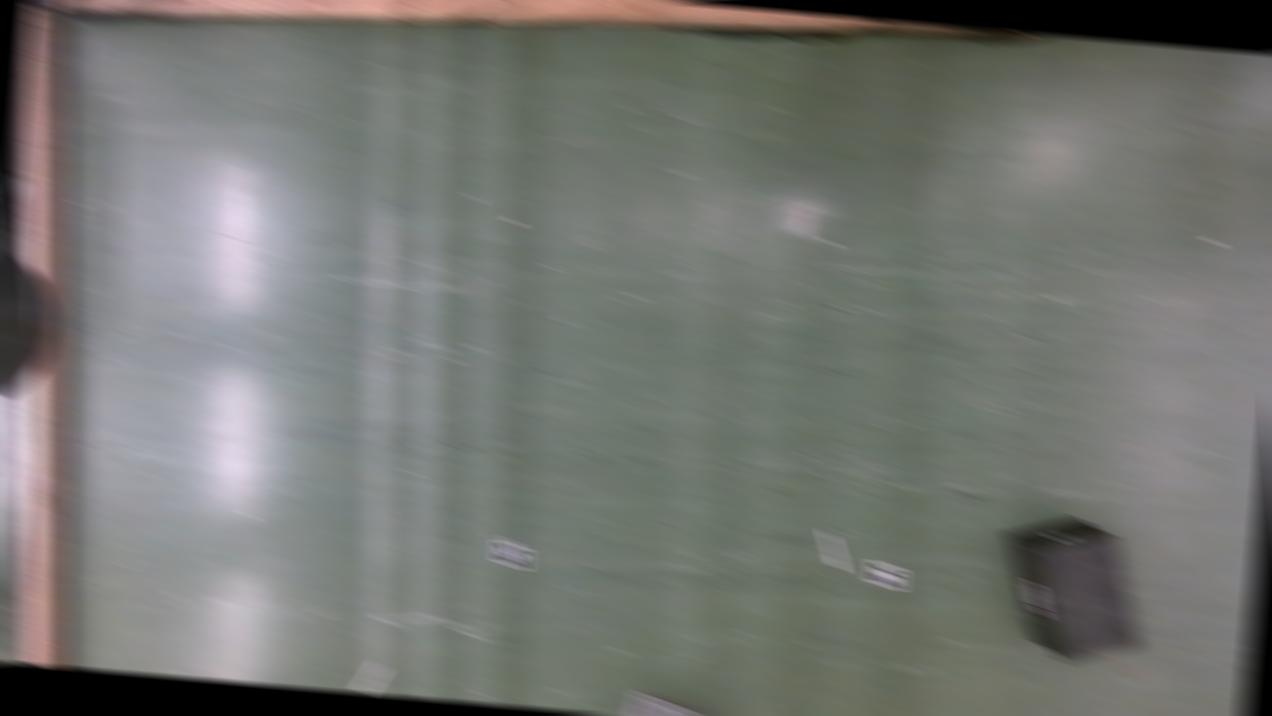probes: (817, 529, 848, 569), (356, 659, 387, 695)
rako: (995, 508, 1150, 668), (620, 694, 717, 716)
